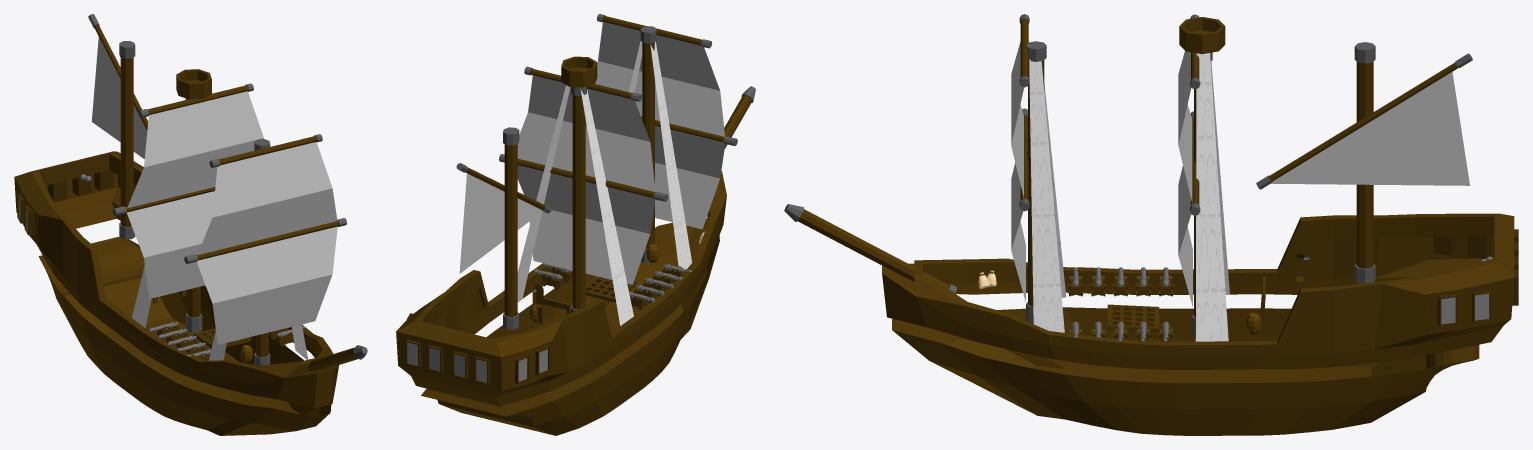
The model's file is Galleon_Mod.fbx.
3 renders of one model, left to right at view 1: azimuth 30°, elevation 25°; view 2: azimuth 150°, elevation 25°; view 3: azimuth 270°, elevation 25°, orthographic. The views are drawn at different scales.
Visible parts, largest first — view 1: Plane.009, Plane.023, Plane.020, Cylinder.015, Plane.019, Plane.021, Plane.017, Plane.001, Plane.030, Plane.033; view 2: Plane.009, Cylinder.015, Plane.019, Plane.021, Plane.020, Plane.023, Plane.017, Plane.030, Plane.034, Plane.001, Plane.022; view 3: Plane.009, Cylinder.015, Plane.017, Plane.022, Plane.033, Plane.001, Plane.019, Plane.021, Plane.020, Plane.023, Plane.030, Plane.034.
Boxes of the visible parts, bbox=[...] form: Plane.009: bbox=[14, 151, 338, 435]; Plane.023: bbox=[196, 226, 337, 344]; Plane.020: bbox=[197, 142, 337, 254]; Cylinder.015: bbox=[88, 14, 367, 371]; Plane.019: bbox=[127, 91, 263, 208]; Plane.021: bbox=[127, 191, 214, 298]; Plane.017: bbox=[91, 37, 147, 158]; Plane.001: bbox=[149, 321, 305, 360]; Plane.030: bbox=[132, 98, 186, 327]; Plane.033: bbox=[292, 324, 308, 359]; Plane.009: bbox=[396, 170, 726, 435]; Cylinder.015: bbox=[456, 14, 755, 329]; Plane.019: bbox=[517, 75, 655, 191]; Plane.021: bbox=[517, 165, 655, 284]; Plane.020: bbox=[595, 22, 724, 142]; Plane.023: bbox=[655, 126, 725, 229]; Plane.017: bbox=[459, 173, 542, 273]; Plane.030: bbox=[580, 89, 633, 325]; Plane.034: bbox=[650, 41, 692, 269]; Plane.001: bbox=[533, 263, 692, 309]; Plane.022: bbox=[517, 85, 570, 302]; Plane.009: bbox=[882, 213, 1518, 435]; Cylinder.015: bbox=[784, 14, 1472, 336]; Plane.017: bbox=[1271, 72, 1469, 185]; Plane.022: bbox=[1195, 53, 1228, 341]; Plane.033: bbox=[1029, 59, 1064, 332]; Plane.001: bbox=[1068, 267, 1173, 341]; Plane.019: bbox=[1178, 51, 1192, 202]; Plane.021: bbox=[1178, 166, 1192, 306]; Plane.020: bbox=[1011, 41, 1024, 197]; Plane.023: bbox=[1011, 163, 1025, 302]; Plane.030: bbox=[1210, 62, 1229, 294]; Plane.034: bbox=[1044, 83, 1066, 297].
Bounding box in the file's own units: 2462 × 4472 × 7924.
